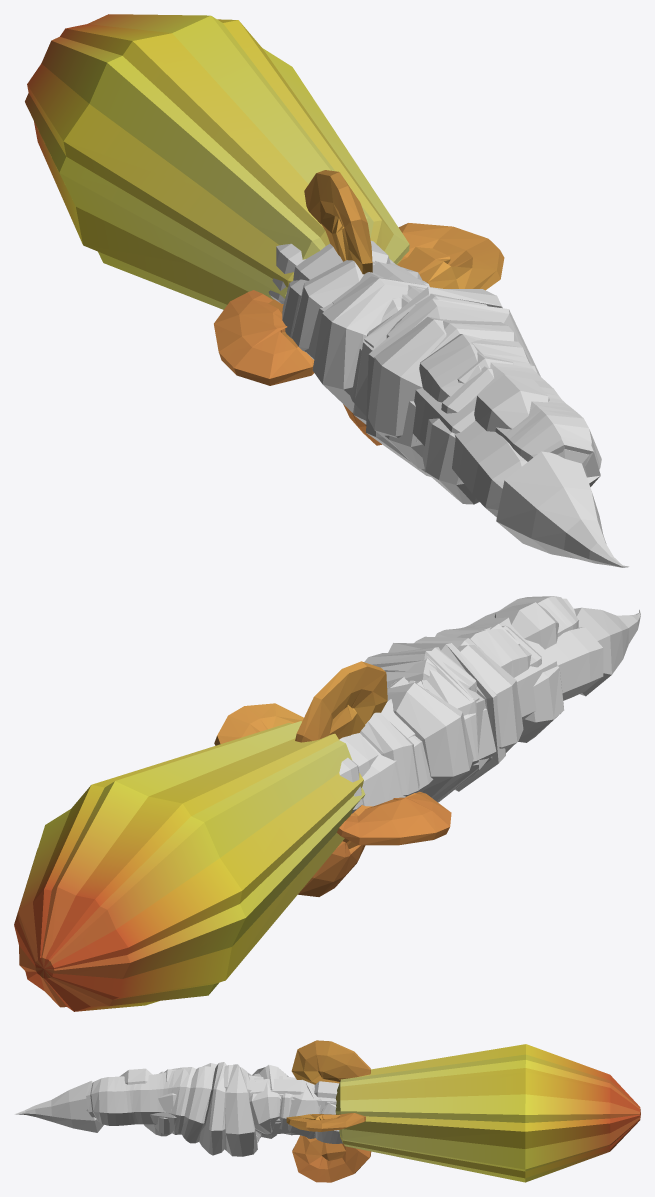
File: Rocket.fbx
The picture shows the model from 3 angles, top to bottom: view 1: azimuth 30°, elevation 25°; view 2: azimuth 150°, elevation 25°; view 3: azimuth 270°, elevation 25°; orthographic projection. The views are drawn at different scales.
Visible parts, largest first — view 1: Rocket; view 2: Rocket; view 3: Rocket.
Part boxes in pixels (x1=…): Rocket: x1=25, y1=14, x2=629, y2=567; Rocket: x1=14, y1=596, x2=640, y2=1011; Rocket: x1=14, y1=1040, x2=640, y2=1182.
Size of the model in its own units: 1.88 by 1.78 by 7.53.
